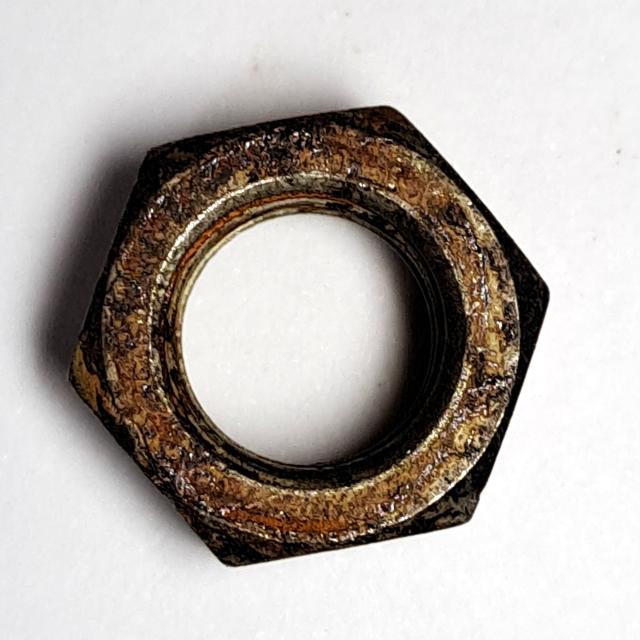Rust: (55, 85, 569, 586)
